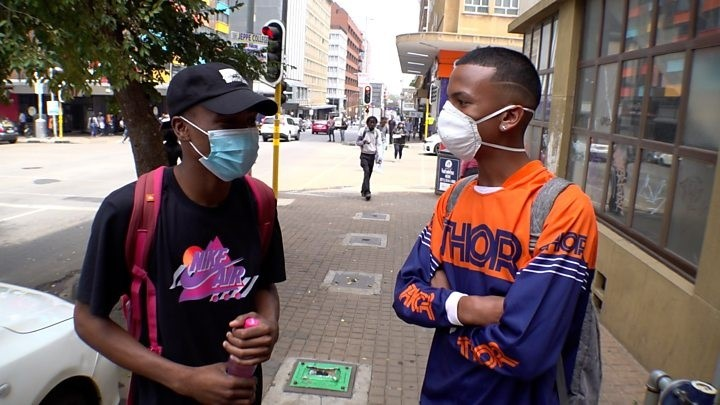face_no_mask: (362, 112, 382, 133)
face_with_mask: (431, 57, 534, 173), (173, 87, 268, 184)
